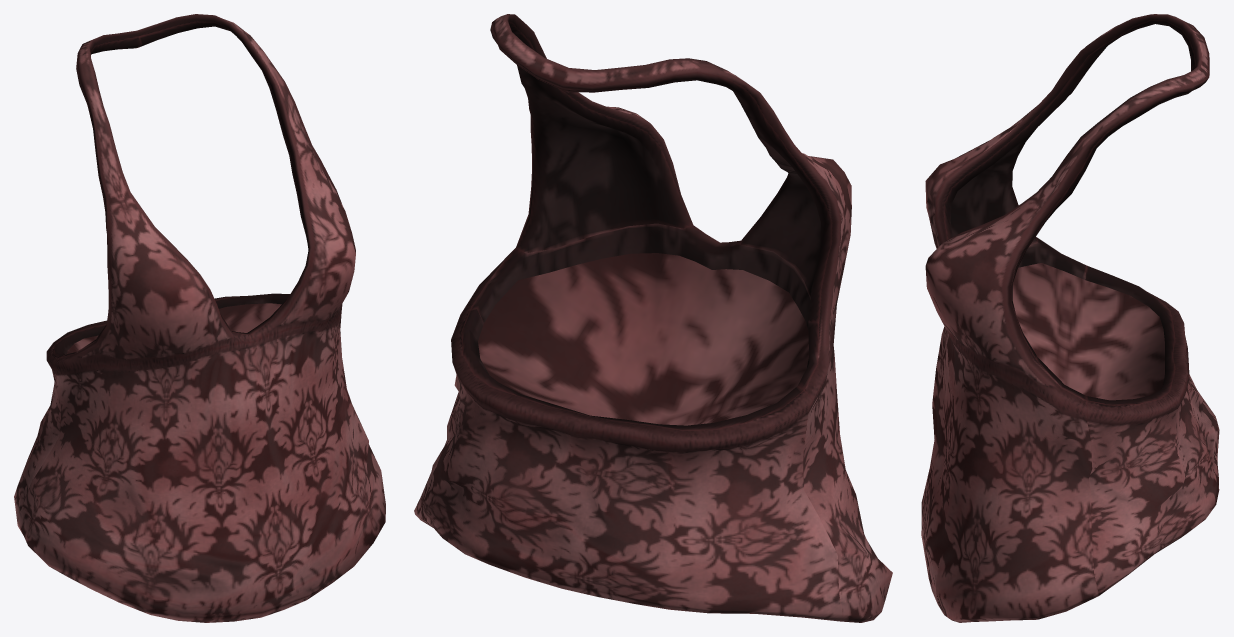
The model's file is toptest.fbx.
3 renders of one model, left to right at view 1: azimuth 30°, elevation 25°; view 2: azimuth 150°, elevation 25°; view 3: azimuth 270°, elevation 25°, orthographic. The views are drawn at different scales.
Visible parts, largest first — view 1: finaltry:Tops; view 2: finaltry:Tops; view 3: finaltry:Tops.
Part boxes in pixels (x1,y1,x2,y2): finaltry:Tops: (14,14,385,622); finaltry:Tops: (414,14,892,622); finaltry:Tops: (921,14,1219,622).
Bounding box in the file's own units: 35.91 × 51.41 × 25.61.
